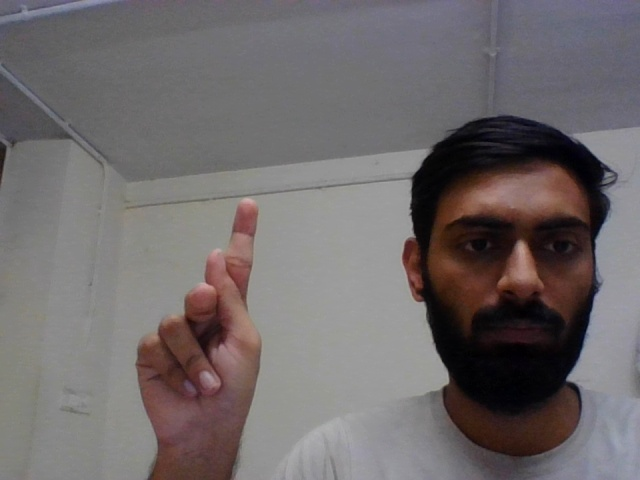K: (123, 192, 270, 464)
